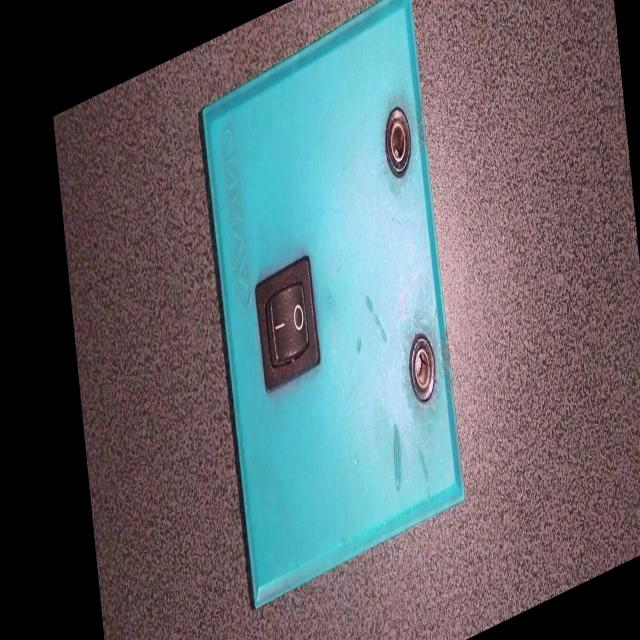ON-OFF Switch: (186, 0, 479, 640)
